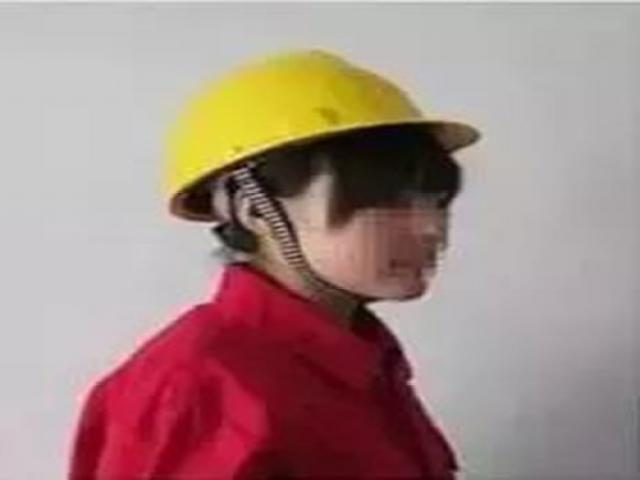Helmet: (155, 42, 490, 230)
